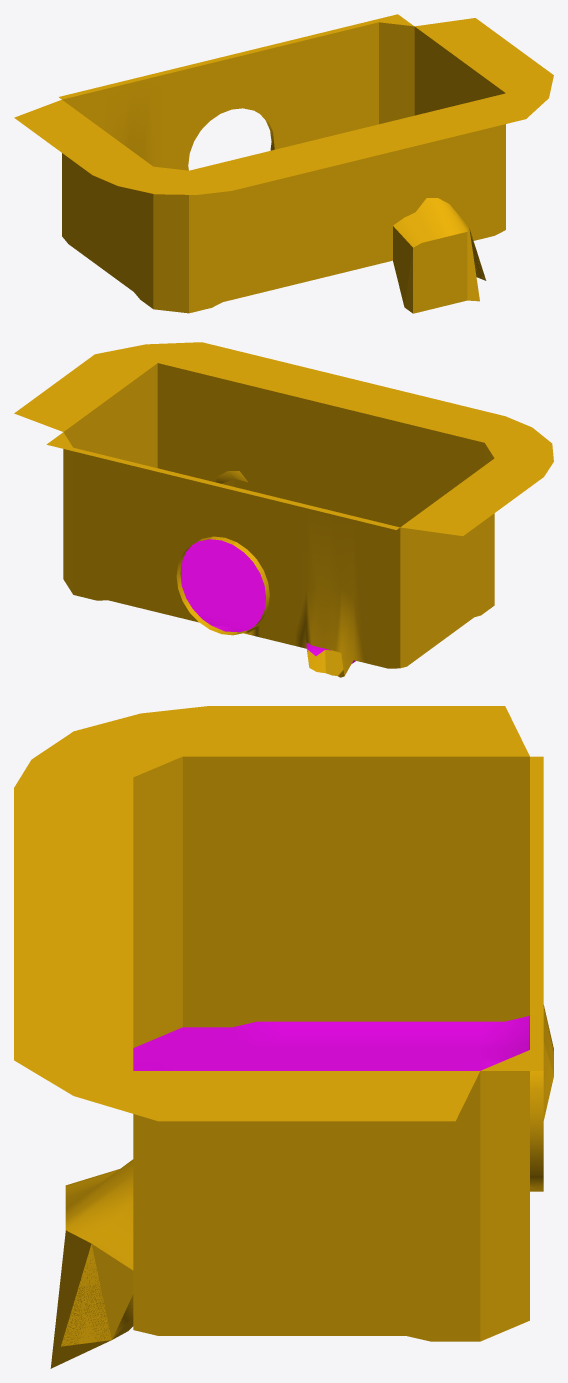
The model's file is arenaBase.fbx.
3 views of the same model, one above another, from view 1: azimuth 30°, elevation 25°; view 2: azimuth 150°, elevation 25°; view 3: azimuth 270°, elevation 25° (orthographic). The views are drawn at different scales.
Visible parts, largest first — view 1: arenaBase:newArena; view 2: arenaBase:newArena; view 3: arenaBase:newArena.
Part boxes in pixels (left/top/right/bottom): arenaBase:newArena: left=14, top=14, right=553, bottom=313; arenaBase:newArena: left=14, top=342, right=553, bottom=677; arenaBase:newArena: left=14, top=706, right=553, bottom=1368.
Size of the model in its own units: 79.25 by 30.46 by 43.56.
